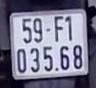0: (15, 47, 28, 75)
1: (63, 13, 78, 43)
3: (28, 47, 43, 74)
5: (41, 44, 56, 73), (21, 15, 34, 46)
6: (58, 44, 71, 73)
8: (71, 43, 85, 72)
9: (32, 17, 46, 44)
F: (53, 14, 64, 42)
